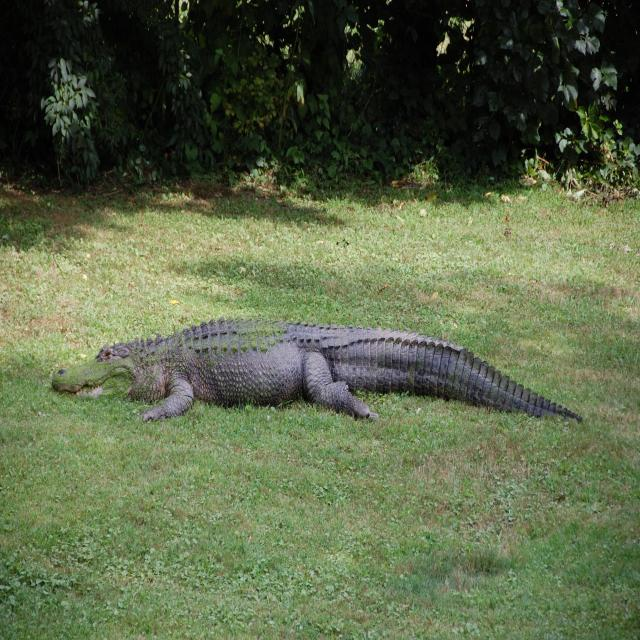crocodile: (23, 283, 609, 466)
